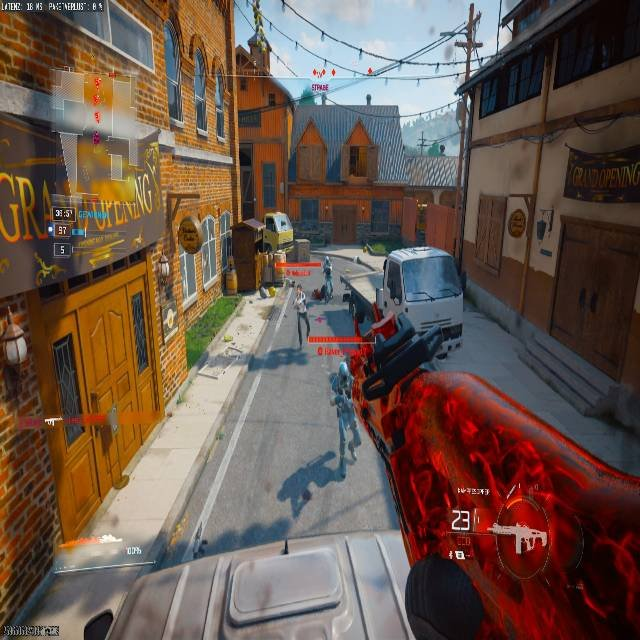head: (338, 362, 348, 375)
player: (328, 362, 361, 463), (293, 283, 307, 312)
